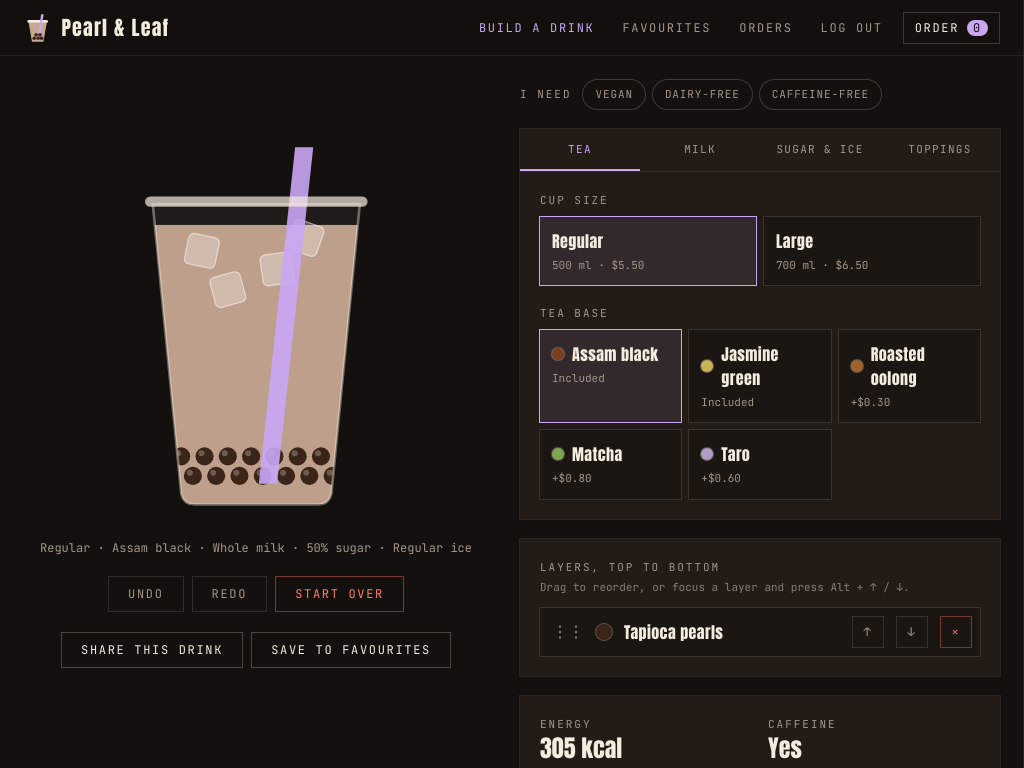
Test: saving a favourite from the builder › refuses a blank name
Click the button "Save to favourites" at (351, 650), box [251, 632, 451, 668]
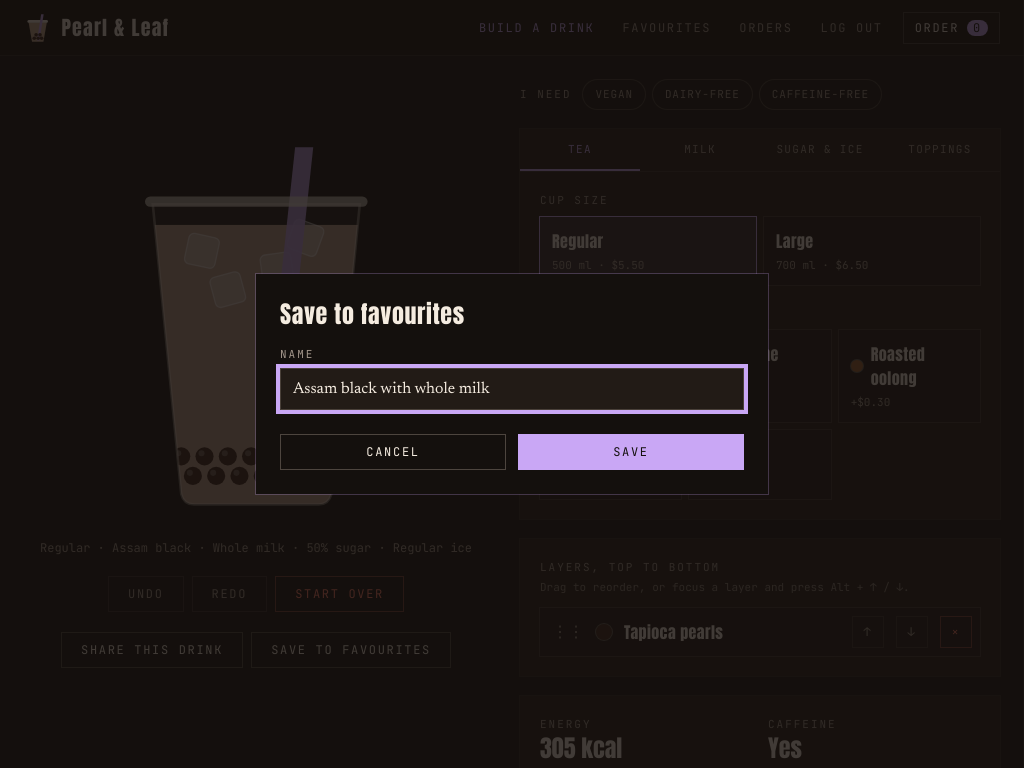
Clear the field labelled "Name" at (512, 389), box [280, 368, 744, 410]
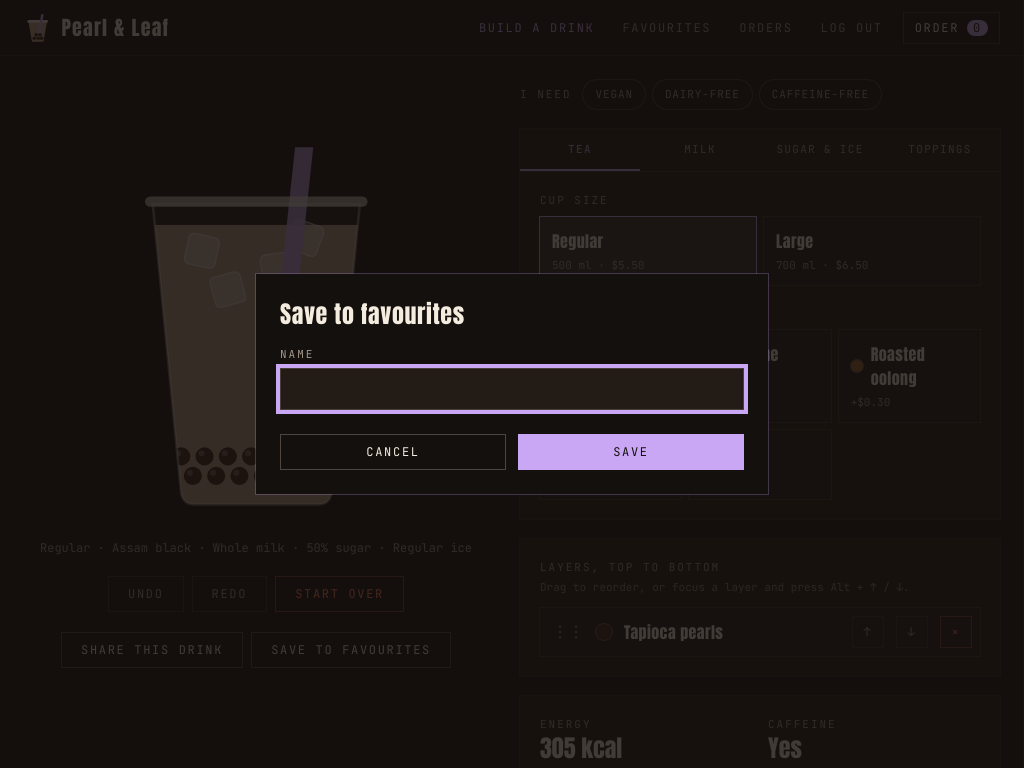
Click the button "Save" at (631, 452), box [518, 434, 744, 470]
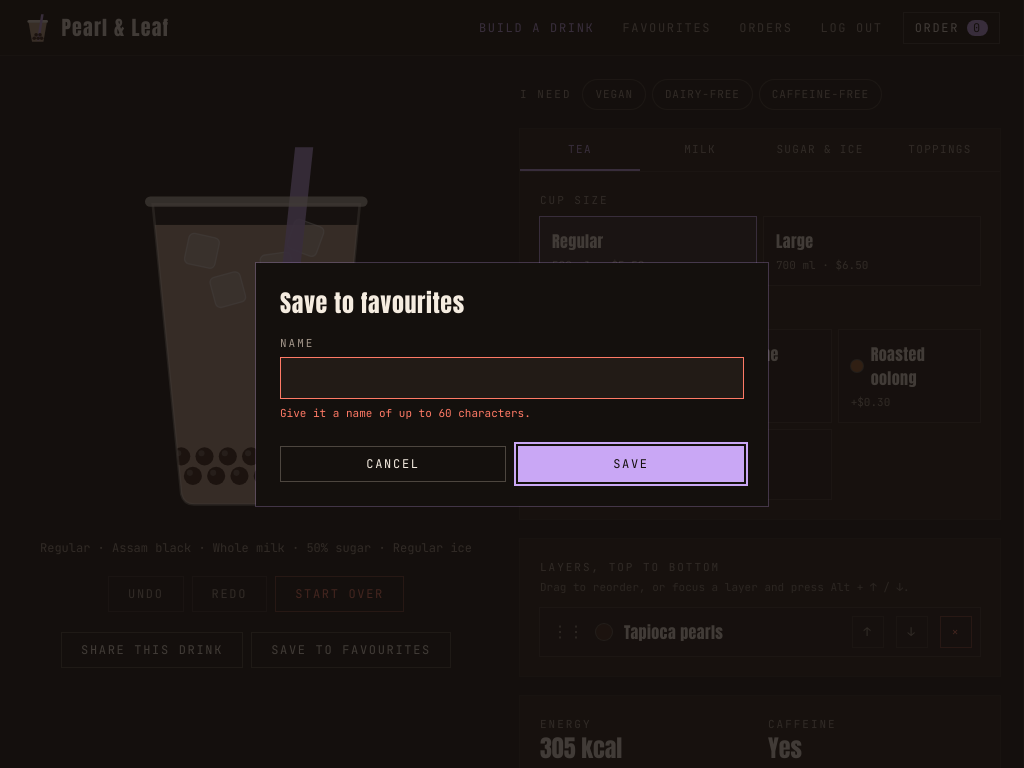
Now the text "Give it a name of up to 60 characters." is shown, box [280, 406, 531, 420]
